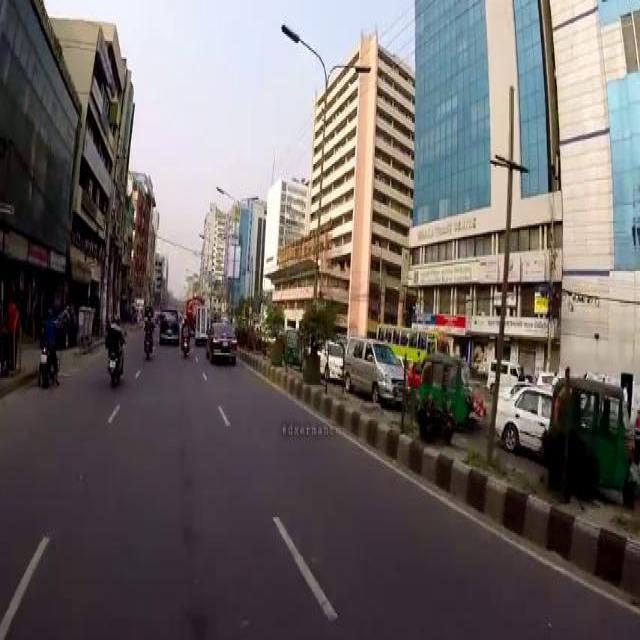10: (106, 327, 126, 384), (39, 335, 60, 383), (142, 319, 152, 357), (180, 325, 190, 354)
17: (550, 373, 638, 509), (414, 350, 474, 430), (284, 324, 302, 369)
18: (183, 294, 203, 326)
19: (156, 305, 178, 339)
5: (492, 382, 550, 451), (308, 337, 342, 378), (205, 319, 237, 360)
9: (343, 336, 409, 404), (486, 358, 526, 389)
Truck: (374, 320, 448, 366)
